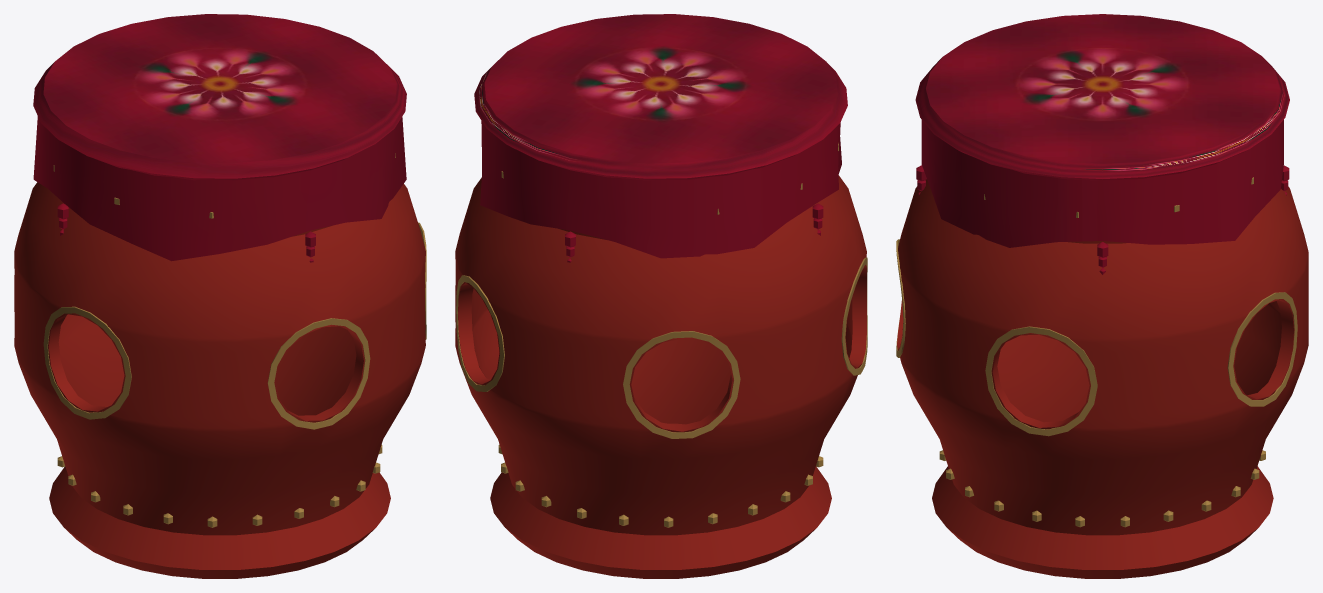
File: xiudun-v1.glb
The picture shows the model from 3 angles, left to right: view 1: azimuth 30°, elevation 25°; view 2: azimuth 150°, elevation 25°; view 3: azimuth 270°, elevation 25°; orthographic projection.
Visible parts, largest first — view 1: xiudun, xiudun_pad, xiudun_gold; view 2: xiudun, xiudun_pad, xiudun_gold; view 3: xiudun, xiudun_pad, xiudun_gold.
Boxes of the visible parts, left/top/right/bottom form: xiudun: left=14, top=182, right=425, bottom=578; xiudun_pad: left=33, top=14, right=406, bottom=262; xiudun_gold: left=43, top=153, right=426, bottom=527; xiudun: left=455, top=175, right=866, bottom=578; xiudun_pad: left=474, top=14, right=847, bottom=262; xiudun_gold: left=456, top=143, right=867, bottom=527; xiudun: left=897, top=179, right=1308, bottom=578; xiudun_pad: left=915, top=14, right=1289, bottom=274; xiudun_gold: left=896, top=177, right=1297, bottom=527.
Size of the model in its own units: 0.4015 by 0.46 by 0.4005.
3 materials, 1 textured.
